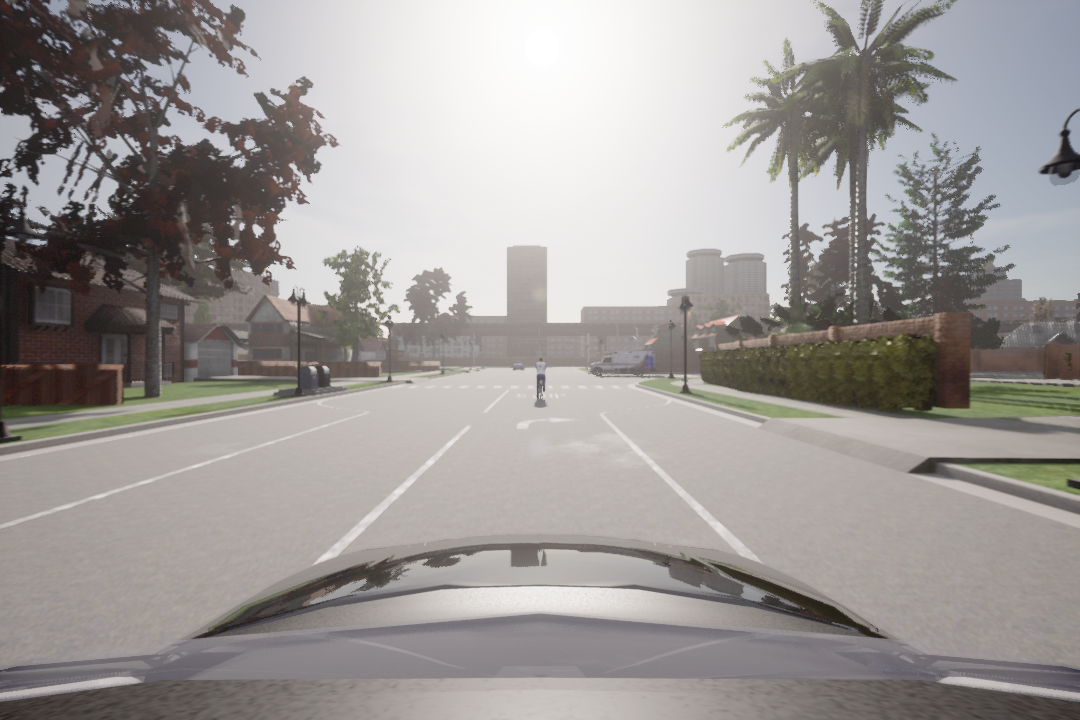RoadSign_right: (516, 413, 578, 430)
